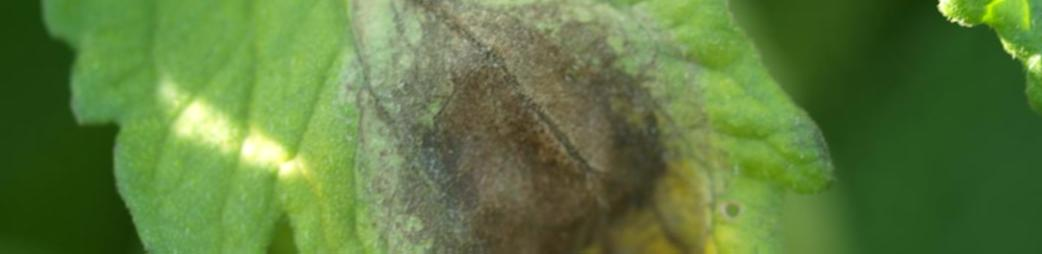Tomato leaf late blight: (0, 0, 874, 254)
